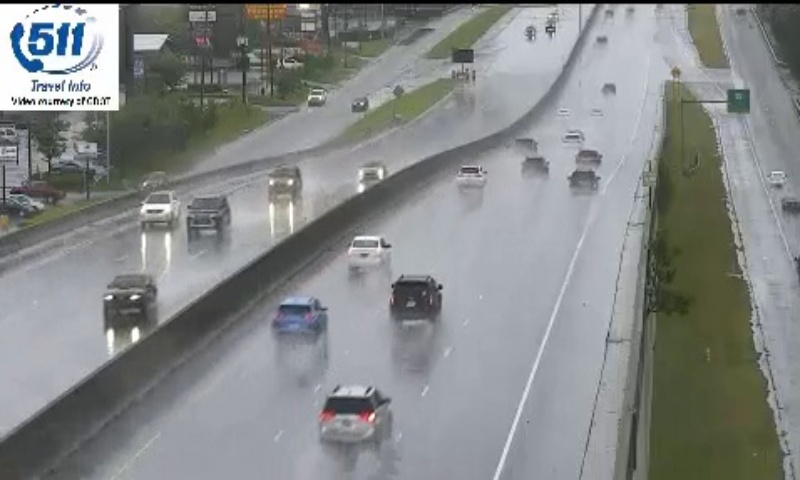car: (321, 386, 391, 445), (389, 275, 442, 321), (272, 297, 326, 339), (348, 236, 389, 272), (569, 169, 599, 196), (456, 163, 487, 188), (520, 156, 550, 181)
